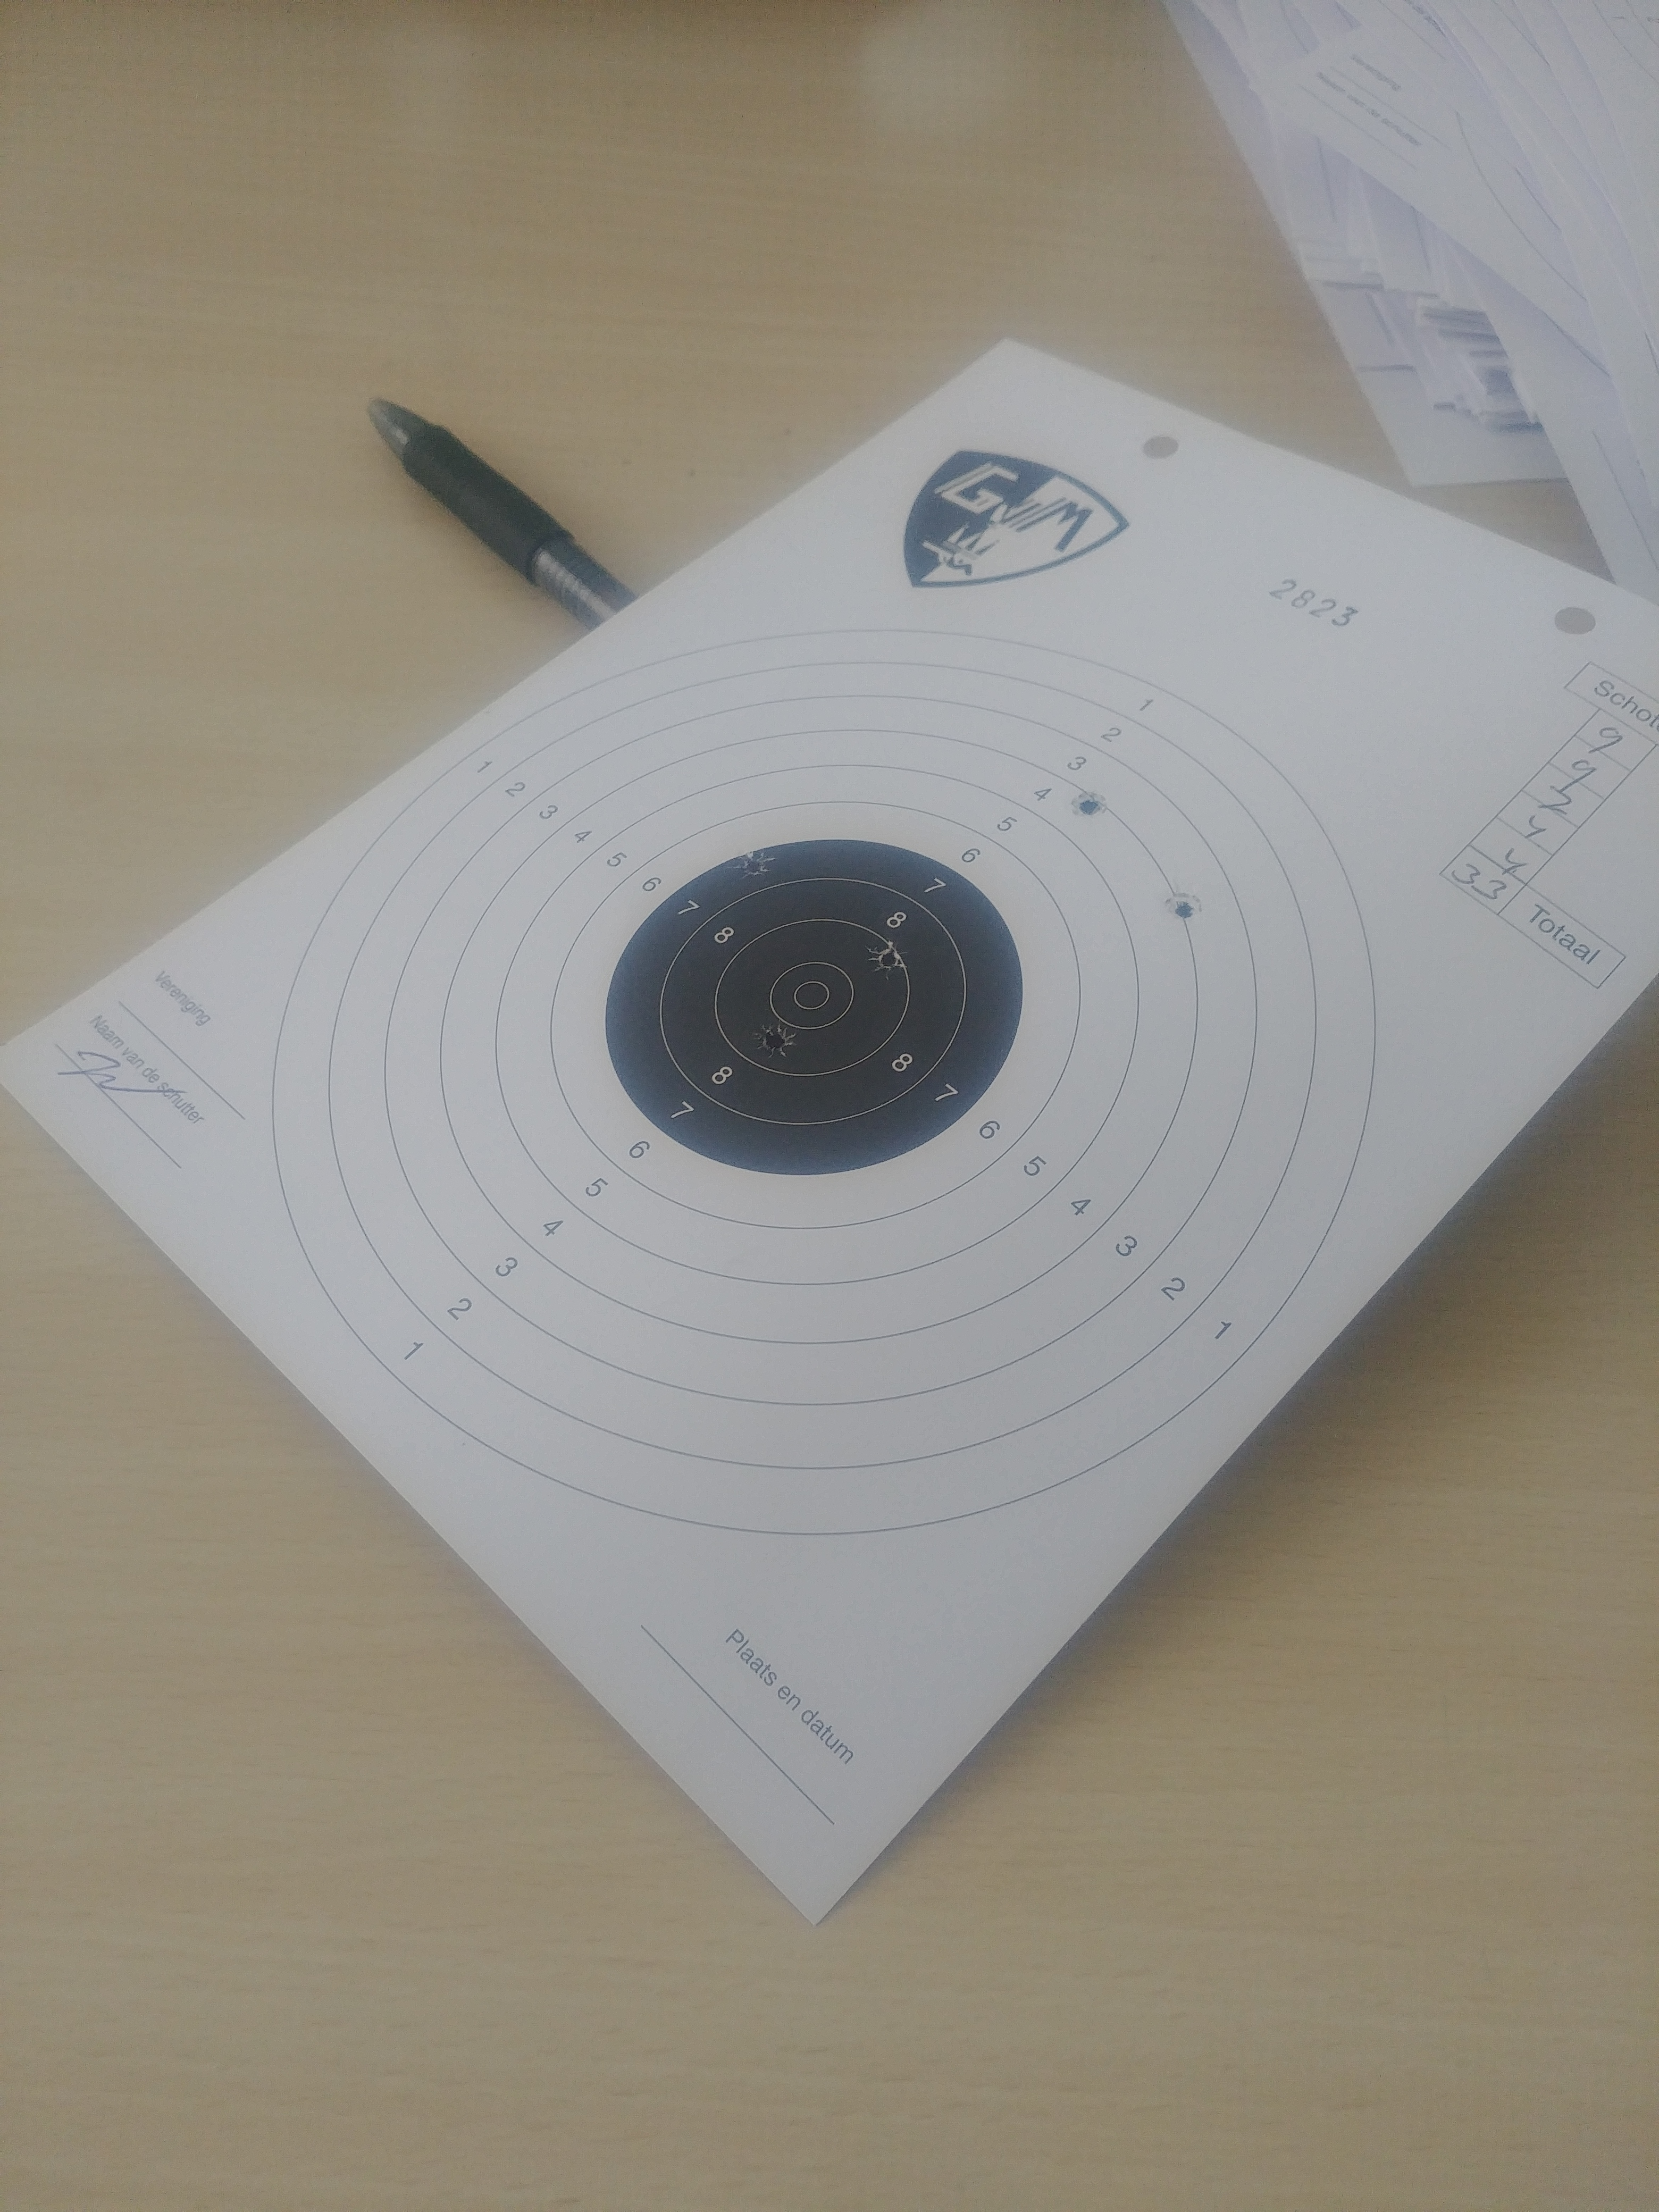center: (605, 838, 1025, 1177)
out: (272, 627, 1377, 1538)
shot: (751, 1021, 805, 1059), (1161, 885, 1204, 921), (870, 935, 908, 975), (730, 850, 775, 878), (1070, 789, 1108, 820)
target: (770, 963, 854, 1029)
